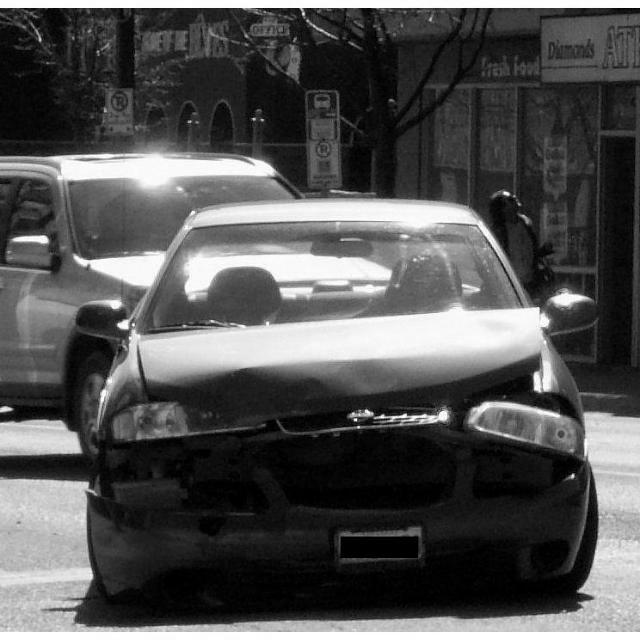bonnet-dent: (130, 300, 536, 425)
front-bumper-dent: (122, 411, 539, 584)
